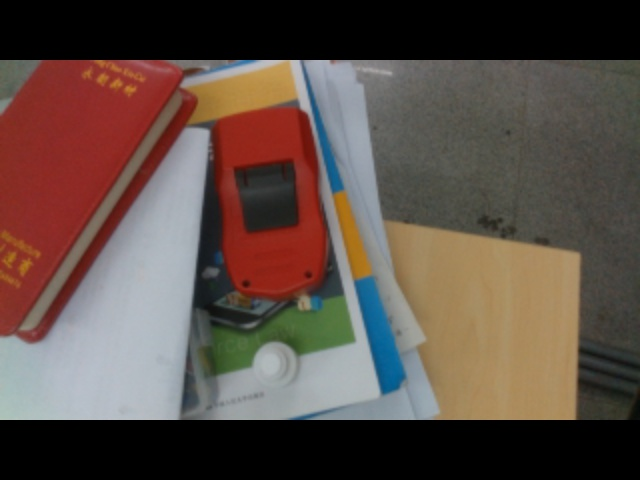Multimeter: (213, 105, 329, 301)
Screw holes: (241, 278, 253, 289), (303, 269, 314, 280)
